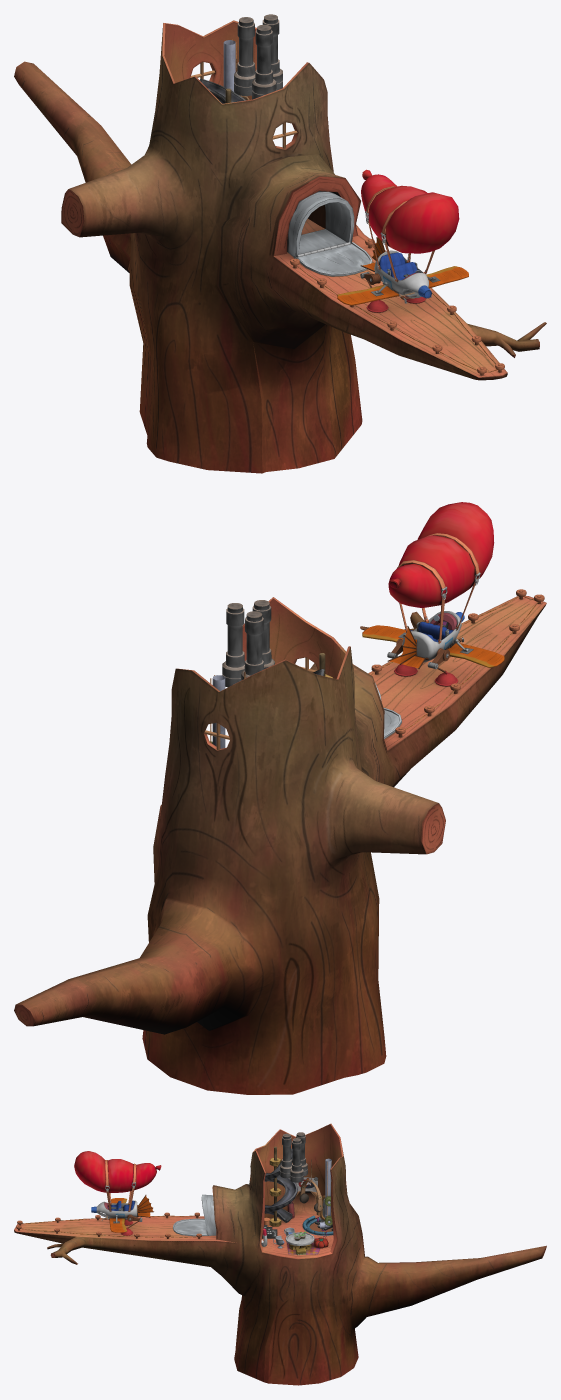
3 renders of one model, top to bottom at view 1: azimuth 30°, elevation 25°; view 2: azimuth 150°, elevation 25°; view 3: azimuth 270°, elevation 25°, orthographic. The views are drawn at different scales.
Parts seen in each view (by area): view 1: Tree_0, Balloon_22, Entrance_1, Wings_25, Flashlight.002_16, Flashlight.001_17, Bottle_26, Pillars_12, Salon_24, Mecha_23, Flashlight.000_15, Periscope_10; view 2: Tree_0, Balloon_22, Wings_25, Flashlight.000_15, Flashlight.002_16, Mecha_23, Pillars_12, Bottle_26, Salon_24; view 3: Tree_0, Balloon_22, Slide_3, Entrance_1, Pillars_12, Wings_25, Periscope_10, Bottle_26, Flashlight.000_15, TV_11, Flashlight.001_17, Headphones_4.
Part boxes in pixels (x1,y1,x2,y2): Tree_0: (14, 20, 546, 473); Balloon_22: (361, 169, 459, 281); Entrance_1: (287, 191, 372, 276); Wings_25: (337, 237, 468, 305); Flashlight.002_16: (234, 17, 255, 96); Flashlight.001_17: (252, 24, 276, 99); Bottle_26: (374, 250, 431, 298); Pillars_12: (290, 238, 504, 375); Salon_24: (379, 252, 420, 280); Mecha_23: (360, 272, 435, 312); Flashlight.000_15: (262, 14, 282, 90); Periscope_10: (223, 39, 236, 91); Tree_0: (14, 595, 546, 1094); Balloon_22: (388, 502, 494, 643); Wings_25: (362, 625, 504, 668); Flashlight.000_15: (222, 603, 244, 687); Flashlight.002_16: (241, 611, 264, 680); Mecha_23: (387, 634, 468, 686); Pillars_12: (371, 589, 544, 737); Bottle_26: (402, 611, 464, 662); Salon_24: (410, 612, 456, 641); Tree_0: (14, 1123, 546, 1385); Balloon_22: (74, 1151, 161, 1211); Slide_3: (264, 1146, 297, 1226); Entrance_1: (173, 1194, 216, 1236); Pillars_12: (16, 1212, 201, 1238); Wings_25: (109, 1195, 153, 1232); Periscope_10: (320, 1158, 332, 1228); Bottle_26: (91, 1200, 137, 1219); Flashlight.000_15: (290, 1138, 303, 1182); TV_11: (302, 1195, 333, 1235); Flashlight.001_17: (280, 1133, 291, 1178); Headphones_4: (299, 1159, 323, 1212).
Size of the model in its own units: 0.8361 by 1.18 by 2.51.
22 materials, 21 textured.
